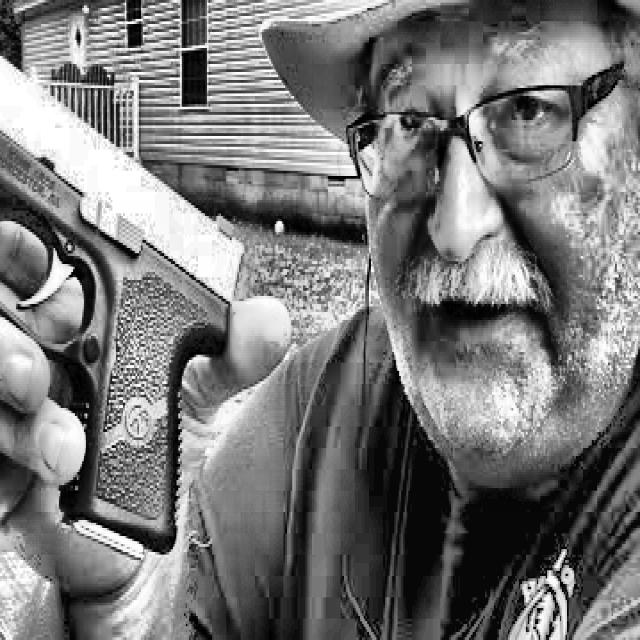Kahr: (0, 8, 244, 560)
